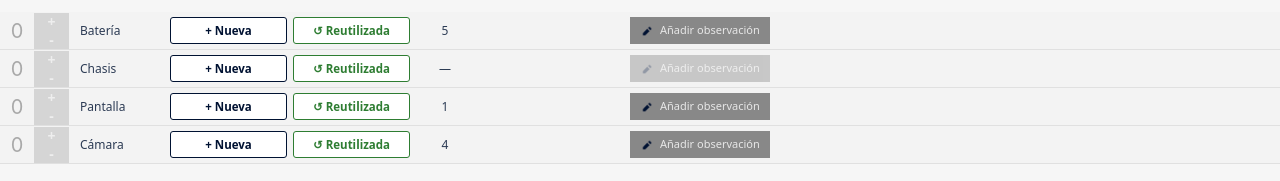
Test: FilaComponente (ficha docs/paridad/formulario.md · Filas de componente) › + y - despachan y respetan el deshabilitado
Click the button with aria-label "Nueva Batería": {"x": 228, "y": 30} [170,17,287,44]
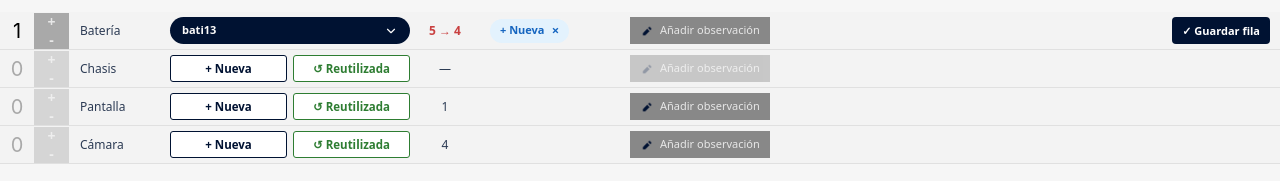
Result: the text with test id "contador-bat" reads "1" at [13,18,21,42]
Click the button named "Restar Batería": {"x": 52, "y": 40} [34,30,69,48]
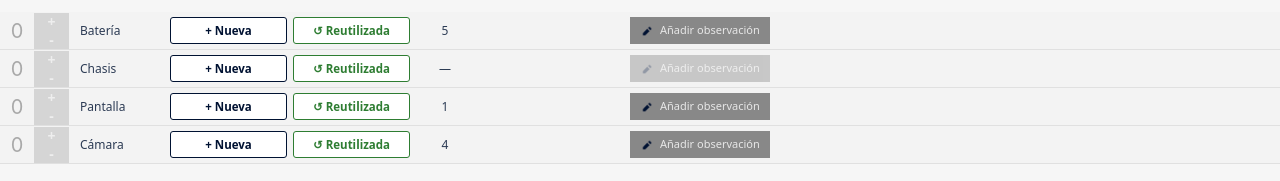
Result: the text with test id "contador-bat" reads "0" at [11,18,23,42]
Result: the button with aria-label "Reutilizada Batería" is enabled at [293,17,410,44]
Note: Pantalla: stock 1 → tras sumar una, "+" se deshabilita.
Click the button with aria-label "Nueva Pantalla": {"x": 228, "y": 106} [170,93,287,120]
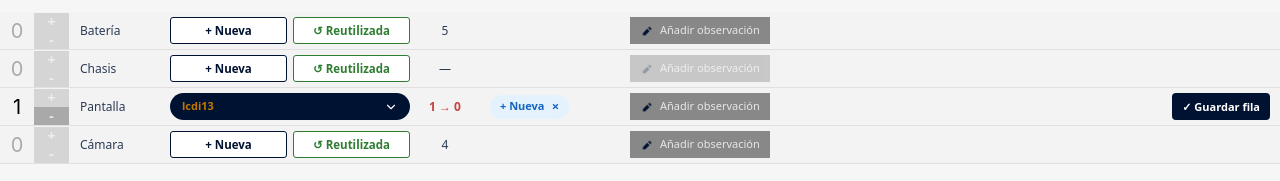
Expected: the button named "Sumar Pantalla" is disabled, [34,88,69,106]
Note: Reutilizada deshabilita + y -.
Click the button with aria-label "Reutilizada Cámara": {"x": 352, "y": 144} [293,131,410,158]
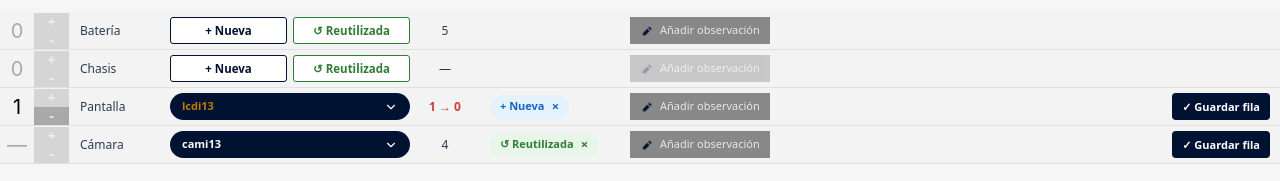
Expected: the button named "Sumar Cámara" is disabled, [34,126,69,144]
Result: the element with test id "marca-cam" shows "↺ Reutilizada" at [500,136,574,151]
